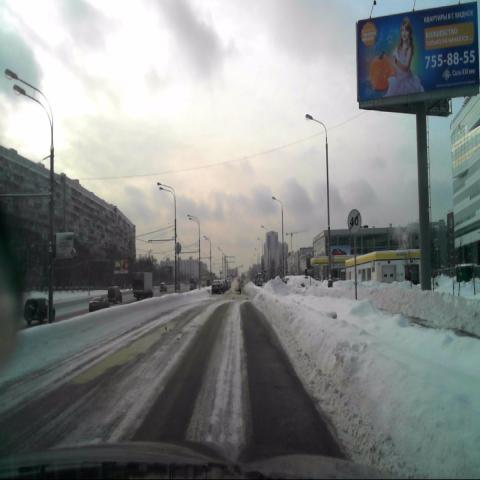3_25: (348, 208, 361, 236)
